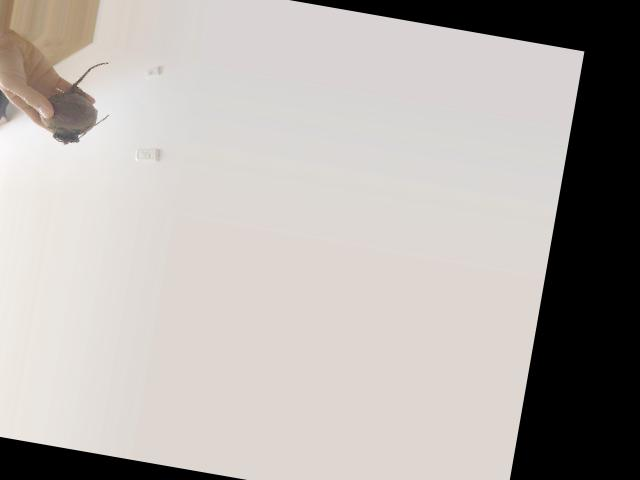beet: (35, 52, 118, 151)
